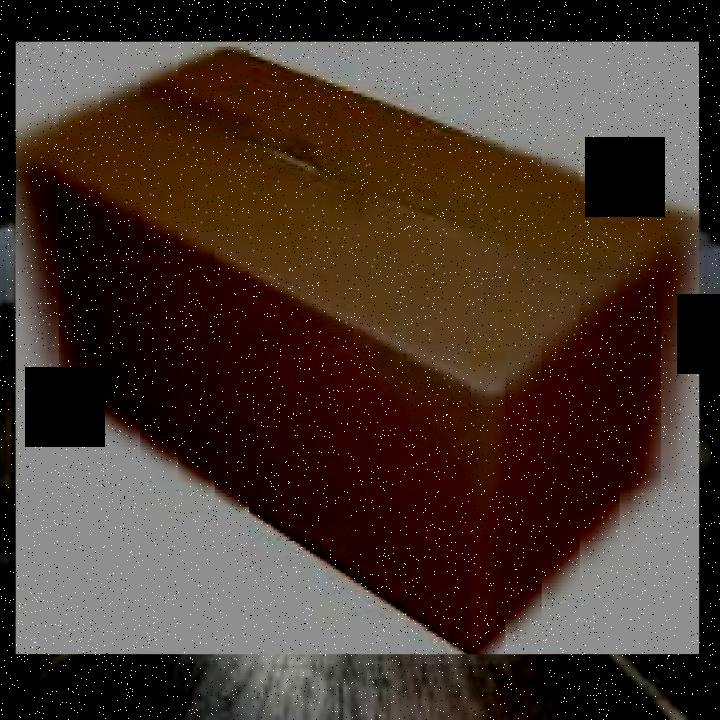box: (6, 34, 711, 664)
